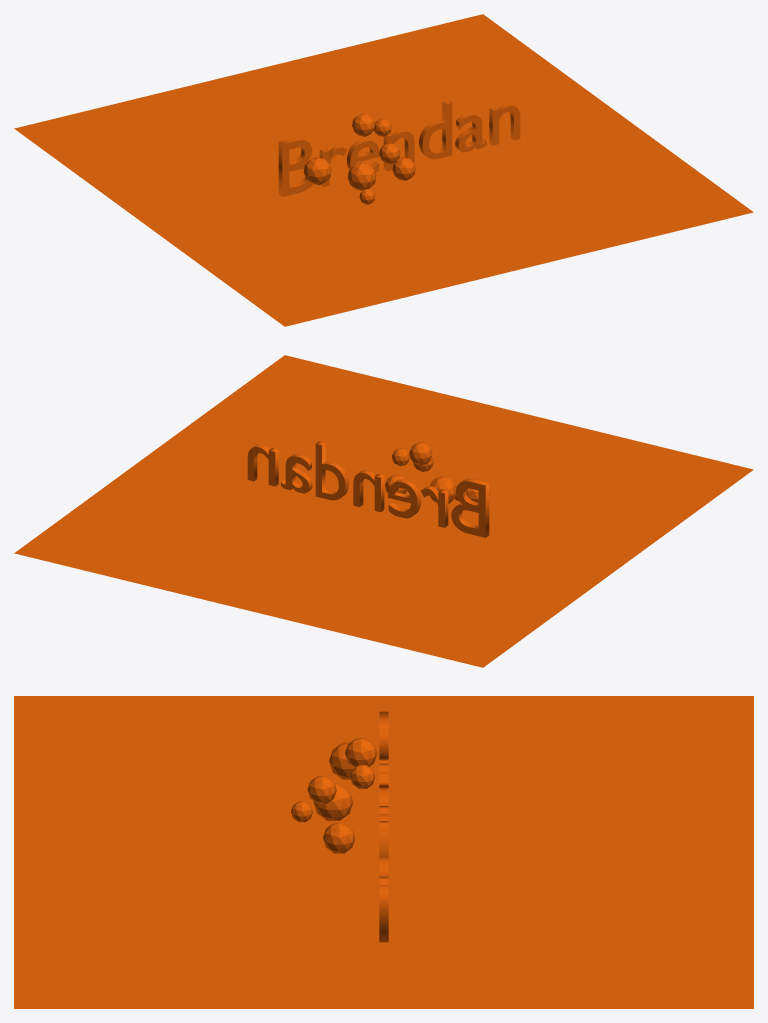
The model's file is shadowmaptest.gltf.
The picture shows the model from 3 angles, top to bottom: view 1: azimuth 30°, elevation 25°; view 2: azimuth 150°, elevation 25°; view 3: azimuth 270°, elevation 25°; orthographic projection. The views are drawn at different scales.
Parts seen in each view (by area): view 1: Plane, hello, Icosphere.002, Icosphere; view 2: Plane, hello; view 3: Plane, hello, Icosphere.002, Icosphere.006, Icosphere.004, Icosphere.003, Icosphere.
Part boxes in pixels (bbox=[...]): Plane: bbox=[14, 14, 753, 326]; hello: bbox=[278, 100, 520, 196]; Icosphere.002: bbox=[347, 162, 376, 190]; Icosphere: bbox=[303, 157, 331, 185]; Plane: bbox=[14, 355, 753, 667]; hello: bbox=[247, 441, 489, 537]; Plane: bbox=[14, 696, 753, 1008]; hello: bbox=[379, 711, 388, 942]; Icosphere.002: bbox=[313, 783, 353, 820]; Icosphere.006: bbox=[323, 822, 355, 853]; Icosphere.004: bbox=[345, 738, 377, 767]; Icosphere.003: bbox=[307, 776, 336, 803]; Icosphere: bbox=[329, 742, 353, 779].
Size of the model in its own units: 12.46 by 1.78 by 12.46.
